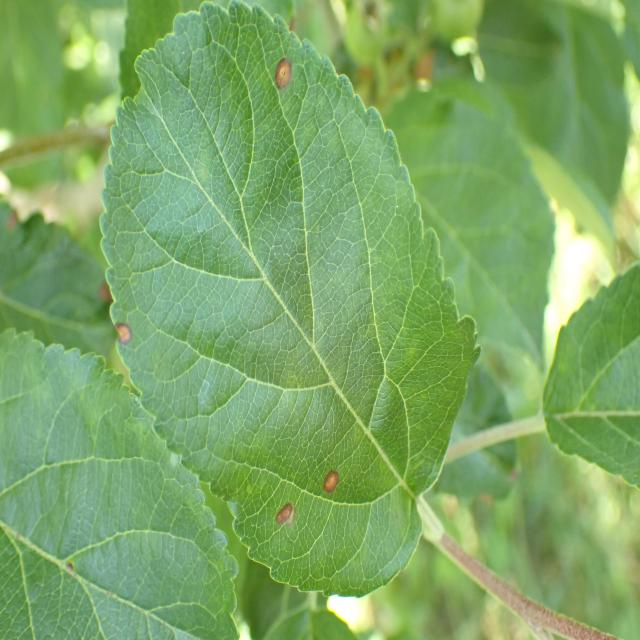Black Rot: (91, 294, 148, 370), (264, 42, 307, 121), (320, 458, 350, 522), (264, 492, 306, 537)
